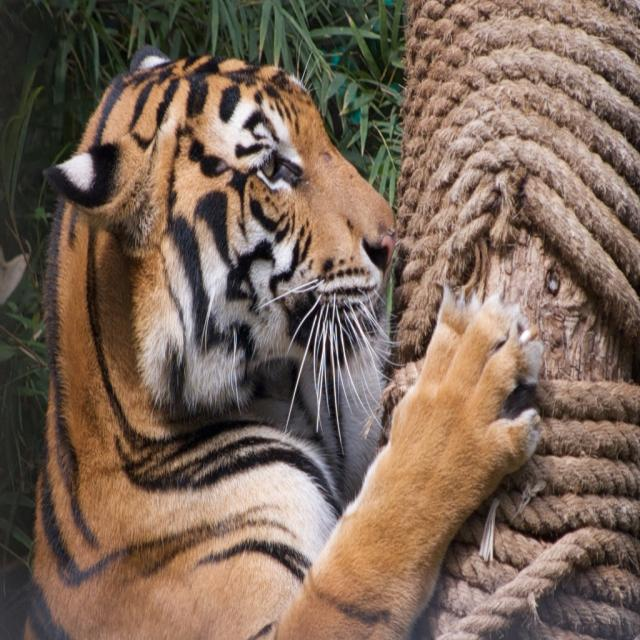Tiger: (4, 32, 542, 639)
